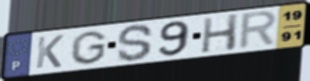9: (157, 20, 193, 59)
G: (68, 30, 109, 66)
H: (199, 12, 241, 55)
K: (34, 33, 66, 70)
R: (236, 9, 280, 51)
S: (116, 23, 156, 63)
